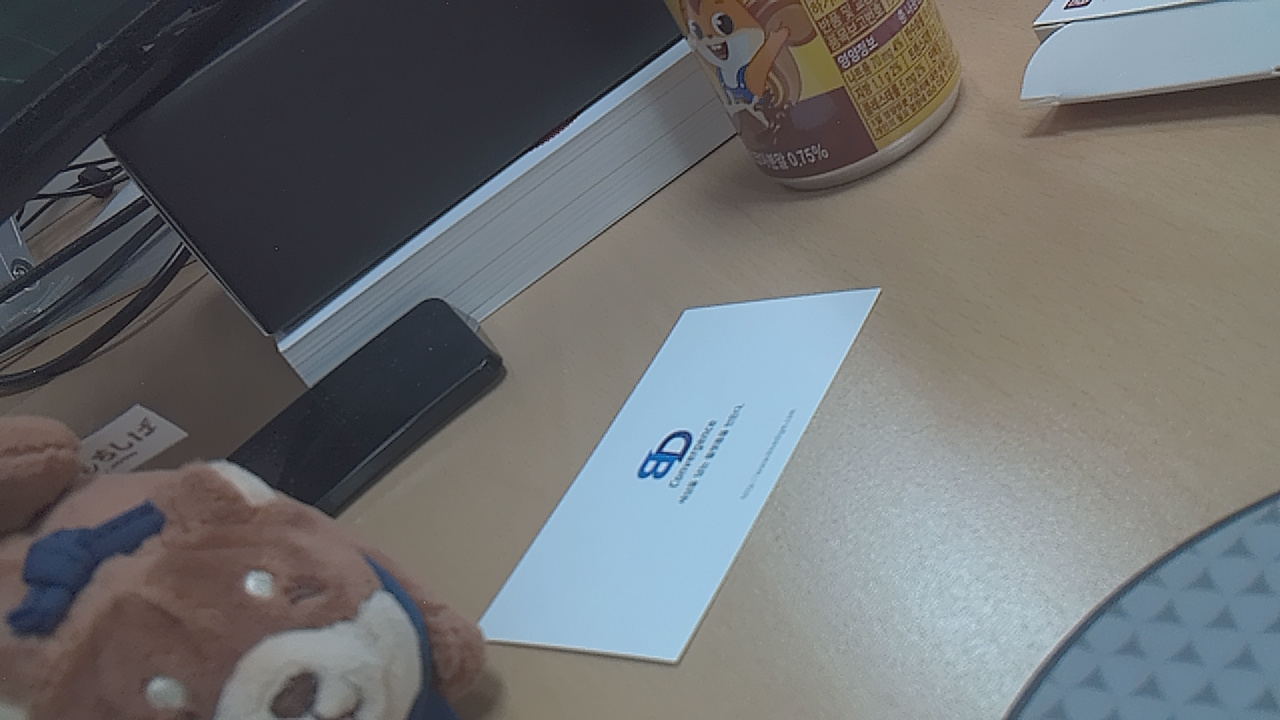BD: (615, 341, 791, 568)
